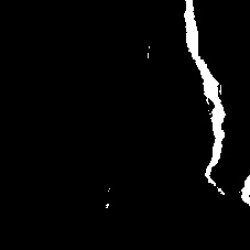crack: (184, 3, 249, 198)
pinhole: (103, 187, 115, 212), (144, 43, 155, 68)
